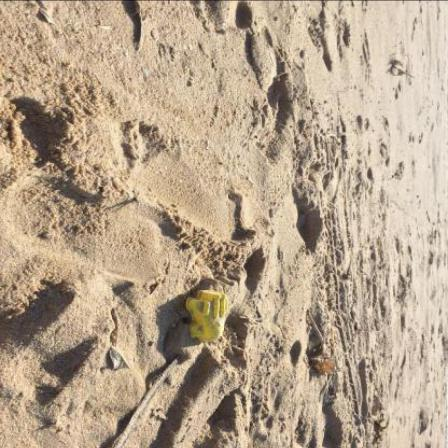Cigarette: (272, 210, 275, 219)
Other plastic: (187, 291, 229, 345)
